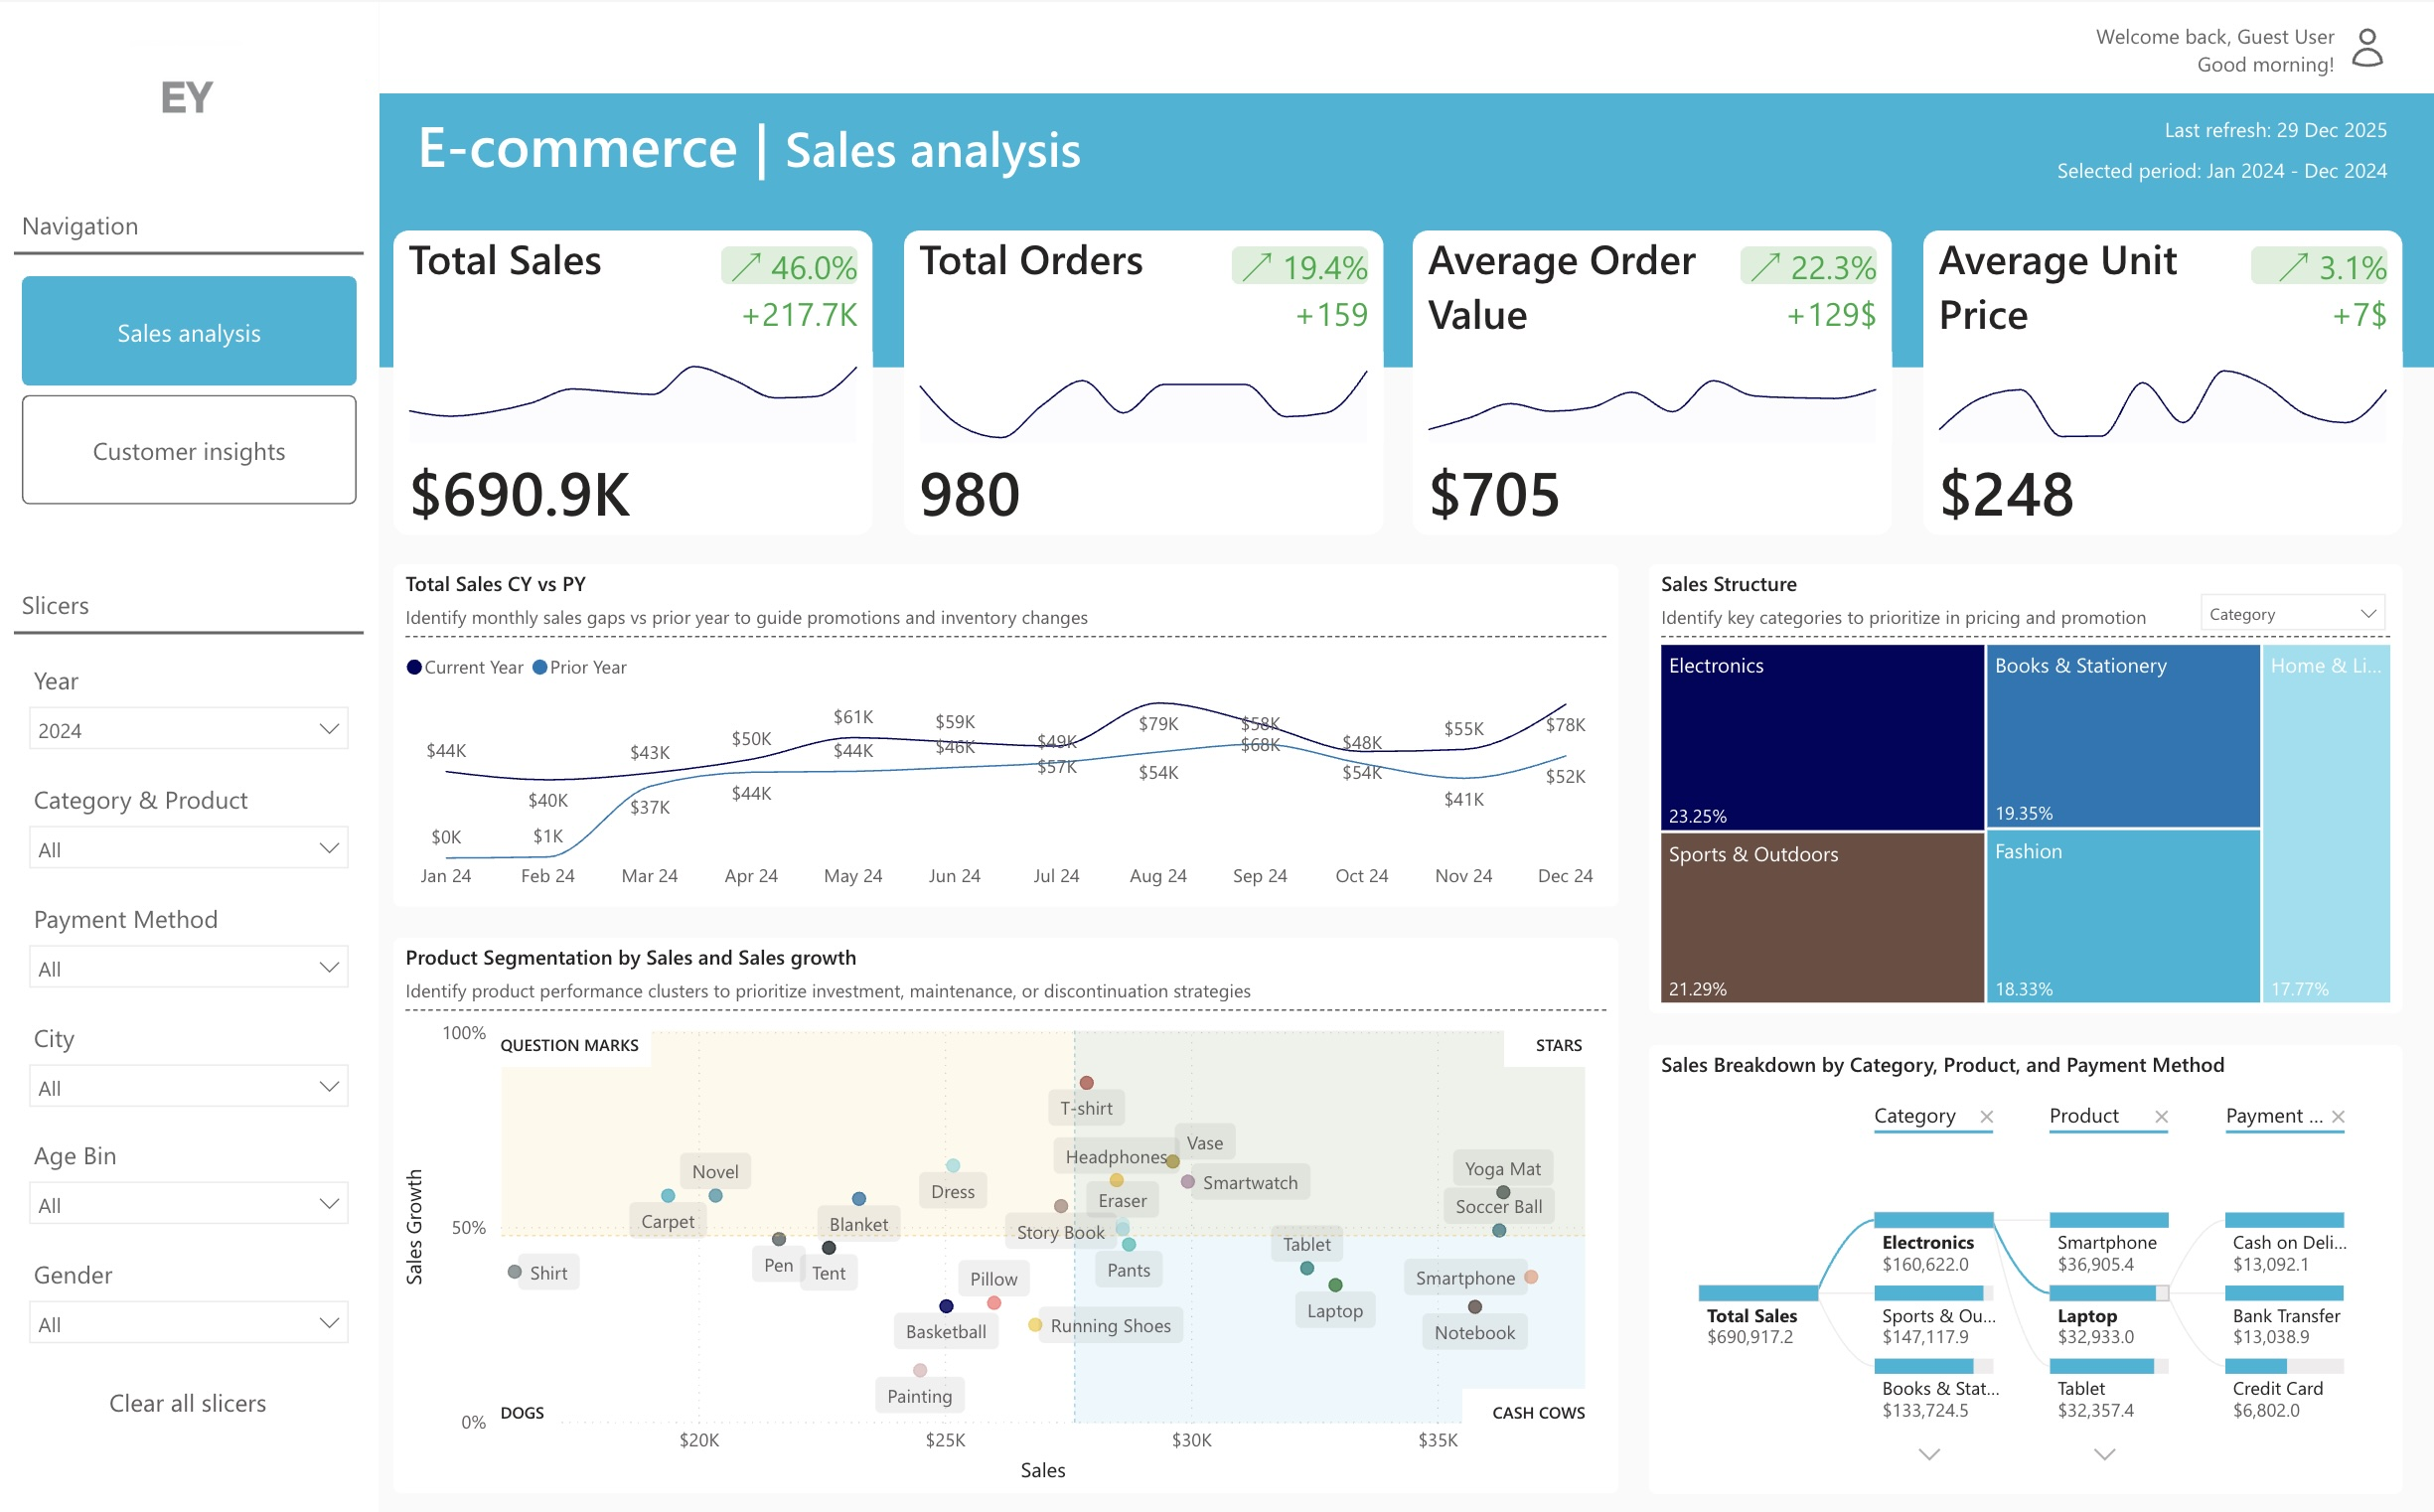

The page's visual inventory and layout, read from the dashboard file:
{"tool":"powerbi","page":{"name":"Sales analysis","canvas":[1600,1000],"ordinal":0},"visuals":[{"type":"shape","title":"White upper pane","box":[250,0,1350.7,60],"z":0,"group":"g1"},{"type":"shape","title":"KPI back","box":[260,150,314.8,200],"z":0,"group":"g8"},{"type":"shape","title":"KPI back","box":[595.7,150,315,200],"z":0,"group":"g7"},{"type":"shape","title":"KPI back","box":[930,150,314.8,200],"z":0,"group":"g6"},{"type":"shape","title":"KPI back","box":[1265,150,314.8,200],"z":0,"group":"g5"},{"type":"pageNavigator","box":[15,180,220,150],"z":0,"group":"g4"},{"type":"treemap","title":"Sales Structure","fields":{"Group":["synthetic_online_retail_data.category_name"],"Values":["Measure.Total Sales"]},"box":[1085,370,495,295],"z":0,"group":"g10"},{"type":"scatterChart","title":"Product Segmentation by Sales and Sales growth","fields":{"X":["Measure.Total Sales"],"Y":["Measure.Total Sales YoY %"],"Series":["synthetic_online_retail_data.product_name"]},"box":[260,615,805,365],"z":0,"group":"g9"},{"type":"textbox","title":"Stars","box":[988.8,670,56.6,30],"z":0,"group":"g2"},{"type":"group","id":"g1","title":"Background","box":[0,0,1600.7,1000],"z":500},{"type":"actionButton","box":[25,900,200,40],"z":500,"group":"g3"},{"type":"slicer","title":"Gender","fields":{"Values":["synthetic_online_retail_data.gender"]},"box":[10,820,230,80],"z":750,"group":"g3"},{"type":"shape","title":"White left pane","box":[0,0,250,1000],"z":1000,"group":"g1"},{"type":"textbox","box":[10,130,230,30],"z":1000,"group":"g4"},{"type":"cardVisual","title":"KPI value","fields":{"Data":["Measure.Total Sales"]},"box":[260.2,300,314.8,45.5],"z":1000,"group":"g8"},{"type":"cardVisual","title":"KPI value","fields":{"Data":["Measure.Total Orders"]},"box":[595.9,300,314.8,45.5],"z":1000,"group":"g7"},{"type":"cardVisual","title":"KPI value","fields":{"Data":["Measure.Average Order Value"]},"box":[930.2,300,314.8,45.5],"z":1000,"group":"g6"},{"type":"cardVisual","title":"KPI value","fields":{"Data":["Measure.Unique Customers"]},"box":[1265.2,300,314.8,45.5],"z":1000,"group":"g5"},{"type":"slicer","title":"Slicer Parameters","fields":{"Values":["Parameter.Parameter"]},"box":[1437.5,385,141.7,34.2],"z":1000,"group":"g10"},{"type":"group","id":"g2","title":"Segments","box":[324.9,670,722.7,270],"z":1000,"group":"g9"},{"type":"slicer","title":"Age Bin","fields":{"Values":["synthetic_online_retail_data.age_bin"]},"box":[10,742,230,80],"z":1000,"group":"g3"},{"type":"textbox","title":"Cash cows","box":[961.6,911,85.9,29],"z":1000,"group":"g2"},{"type":"shape","title":"Blue rectangle","box":[250,60,1350,180],"z":2000,"group":"g1"},{"type":"shape","title":"Line","box":[10.1,150,230,30],"z":2000,"group":"g4"},{"type":"lineChart","title":"Line graph","fields":{"Y":["Measure.Total Sales"],"Category":["Date.Month-Year"]},"box":[260,230,314.8,60],"z":2000,"group":"g8"},{"type":"lineChart","title":"Line graph","fields":{"Y":["Measure.Total Orders"],"Category":["Date.Month-Year"]},"box":[595.7,230,314.8,60],"z":2000,"group":"g7"},{"type":"lineChart","title":"Line graph","fields":{"Y":["Measure.Average Order Value"],"Category":["Date.Month-Year"]},"box":[930,230,314.8,60],"z":2000,"group":"g6"},{"type":"lineChart","title":"Line graph","fields":{"Y":["Measure.Average Unit Price"],"Category":["Date.Month-Year"]},"box":[1265,230,314.8,60],"z":2000,"group":"g5"},{"type":"group","id":"g3","title":"Slicers","box":[10,380,230.1,560],"z":2000},{"type":"slicer","title":"City","fields":{"Values":["synthetic_online_retail_data.city"]},"box":[10,664,230,80],"z":2000,"group":"g3"},{"type":"textbox","title":"Question marks","box":[324.9,670,103.8,30],"z":2000,"group":"g2"},{"type":"group","id":"g4","title":"Navigation","box":[10,130,230.1,200],"z":3000},{"type":"cardVisual","title":"Abs change","fields":{"Data":["Measure.Total Sales YoY Diff Formatted"]},"box":[469.9,190,100.2,30],"z":3000,"group":"g8"},{"type":"cardVisual","title":"Abs change","fields":{"Data":["Measure.Total Orders YoY Diff Formatted"]},"box":[805.6,190,100.2,30],"z":3000,"group":"g7"},{"type":"cardVisual","title":"Abs change","fields":{"Data":["Measure.AOV YoY Diff Formatted"]},"box":[1139.9,190,100.2,30],"z":3000,"group":"g6"},{"type":"cardVisual","title":"Abs change","fields":{"Data":["Measure.Average Unit Price YoY Diff Formatted"]},"box":[1474.9,190,100.2,30],"z":3000,"group":"g5"},{"type":"slicer","title":"Payment method","fields":{"Values":["synthetic_online_retail_data.payment_method"]},"box":[10,586,230,80],"z":3000,"group":"g3"},{"type":"textbox","title":"Dogs","box":[325.2,911.2,44.9,28.8],"z":3000,"group":"g2"},{"type":"group","id":"g5","title":"KPI Unit Price","box":[1265,150,315,200],"z":4000},{"type":"cardVisual","title":"Rel change","fields":{"Data":["Measure.Total Sales YoY Formatted"]},"box":[469.9,160,100.2,30],"z":4000,"group":"g8"},{"type":"cardVisual","title":"Rel change","fields":{"Data":["Measure.Total Orders YoY % Formatted"]},"box":[805.6,160,100,30],"z":4000,"group":"g7"},{"type":"cardVisual","title":"Rel change","fields":{"Data":["Measure.AOV YoY % Formatted"]},"box":[1139.9,160,100.2,30],"z":4000,"group":"g6"},{"type":"cardVisual","title":"Rel change","fields":{"Data":["Measure.Average Unit Price YoY % Formatted"]},"box":[1474.9,160,100.2,30],"z":4000,"group":"g5"},{"type":"slicer","title":"Category","fields":{"Values":["synthetic_online_retail_data.category_name","synthetic_online_retail_data.product_name"]},"box":[10,508,230,80],"z":4000,"group":"g3"},{"type":"cardVisual","title":"Dates","fields":{"Data":["Measure.Last Refresh Date","Measure.Selected Period"]},"box":[1338.6,62.9,242.9,67.1],"z":4625,"group":"g1"},{"type":"textbox","title":"KPI name","box":[260,150,210,80],"z":5000,"group":"g8"},{"type":"textbox","title":"KPI name","box":[595.7,150,209.9,80],"z":5000,"group":"g7"},{"type":"group","id":"g6","title":"KPI AOV","box":[930,150,315,200],"z":5000},{"type":"textbox","title":"KPI name","box":[930,150,210,80],"z":5000,"group":"g6"},{"type":"textbox","title":"KPI name","box":[1265,150,209.9,80],"z":5000,"group":"g5"},{"type":"slicer","title":"Year","fields":{"Values":["Date.Year"]},"box":[10,430,230,80],"z":5000,"group":"g3"},{"type":"group","id":"g7","title":"KPI Total Orders","box":[595.7,150,315,200],"z":6000},{"type":"textbox","box":[10,380,230,30],"z":6000,"group":"g3"},{"type":"group","id":"g8","title":"KPI Total Sales","box":[260,150,315,200],"z":7000},{"type":"shape","title":"Line","box":[10.1,400,230,30],"z":7000,"group":"g3"},{"type":"textbox","title":"Report name","box":[270,62.9,920,67.1],"z":7250,"group":"g1"},{"type":"lineChart","title":"Total Sales CY vs PY","fields":{"Y":["Measure.Total Sales","Measure.Total Sales PY"],"Category":["Date.Month-Year"]},"box":[260,370,805,225],"z":9000},{"type":"cardVisual","title":"Greeting","fields":{"Data":["Measure.Greeting 2"]},"box":[1344.3,0,237.1,60],"z":9875,"group":"g1"},{"type":"group","id":"g9","title":"Segmentation","box":[260,615,805,365],"z":10000},{"type":"group","id":"g10","title":"Sales Structure","box":[1085,370,495,295],"z":11000},{"type":"decompositionTreeVisual","title":"Sales Breakdown by Category, Product, and Payment Method","fields":{"Analyze":["Measure.Total Sales"],"ExplainBy":["synthetic_online_retail_data.category_name","synthetic_online_retail_data.product_name","synthetic_online_retail_data.payment_method"]},"box":[1085,685,495,295],"z":12000},{"type":"image","box":[67.1,24.3,115.7,75.7],"z":12501,"group":"g1"}]}

Visuals, with their boxes on the page's 1600x1000 design canvas (x1, y1, x2, y2). These are canvas units, not pixel positions in the 2434x1512 screenshot, which may show the page scaled, cropped or inside an application window:
"White upper pane" shape: select_region(250, 0, 1601, 60)
"KPI back" shape: select_region(260, 150, 575, 350)
"KPI back" shape: select_region(596, 150, 911, 350)
"KPI back" shape: select_region(930, 150, 1245, 350)
"KPI back" shape: select_region(1265, 150, 1580, 350)
pageNavigator: select_region(15, 180, 235, 330)
"Sales Structure" treemap: select_region(1085, 370, 1580, 665)
"Product Segmentation by Sales and Sales growth" scatterChart: select_region(260, 615, 1065, 980)
"Stars" textbox: select_region(989, 670, 1045, 700)
"Background" group: select_region(0, 0, 1601, 1000)
actionButton: select_region(25, 900, 225, 940)
"Gender" slicer: select_region(10, 820, 240, 900)
"White left pane" shape: select_region(0, 0, 250, 1000)
textbox: select_region(10, 130, 240, 160)
"KPI value" cardVisual: select_region(260, 300, 575, 346)
"KPI value" cardVisual: select_region(596, 300, 911, 346)
"KPI value" cardVisual: select_region(930, 300, 1245, 346)
"KPI value" cardVisual: select_region(1265, 300, 1580, 346)
"Slicer Parameters" slicer: select_region(1438, 385, 1579, 419)
"Segments" group: select_region(325, 670, 1048, 940)
"Age Bin" slicer: select_region(10, 742, 240, 822)
"Cash cows" textbox: select_region(962, 911, 1048, 940)
"Blue rectangle" shape: select_region(250, 60, 1600, 240)
"Line" shape: select_region(10, 150, 240, 180)
"Line graph" lineChart: select_region(260, 230, 575, 290)
"Line graph" lineChart: select_region(596, 230, 910, 290)
"Line graph" lineChart: select_region(930, 230, 1245, 290)
"Line graph" lineChart: select_region(1265, 230, 1580, 290)
"Slicers" group: select_region(10, 380, 240, 940)
"City" slicer: select_region(10, 664, 240, 744)
"Question marks" textbox: select_region(325, 670, 429, 700)
"Navigation" group: select_region(10, 130, 240, 330)
"Abs change" cardVisual: select_region(470, 190, 570, 220)
"Abs change" cardVisual: select_region(806, 190, 906, 220)
"Abs change" cardVisual: select_region(1140, 190, 1240, 220)
"Abs change" cardVisual: select_region(1475, 190, 1575, 220)
"Payment method" slicer: select_region(10, 586, 240, 666)
"Dogs" textbox: select_region(325, 911, 370, 940)
"KPI Unit Price" group: select_region(1265, 150, 1580, 350)
"Rel change" cardVisual: select_region(470, 160, 570, 190)
"Rel change" cardVisual: select_region(806, 160, 906, 190)
"Rel change" cardVisual: select_region(1140, 160, 1240, 190)
"Rel change" cardVisual: select_region(1475, 160, 1575, 190)
"Category" slicer: select_region(10, 508, 240, 588)
"Dates" cardVisual: select_region(1339, 63, 1582, 130)
"KPI name" textbox: select_region(260, 150, 470, 230)
"KPI name" textbox: select_region(596, 150, 806, 230)
"KPI AOV" group: select_region(930, 150, 1245, 350)
"KPI name" textbox: select_region(930, 150, 1140, 230)
"KPI name" textbox: select_region(1265, 150, 1475, 230)
"Year" slicer: select_region(10, 430, 240, 510)
"KPI Total Orders" group: select_region(596, 150, 911, 350)
textbox: select_region(10, 380, 240, 410)
"KPI Total Sales" group: select_region(260, 150, 575, 350)
"Line" shape: select_region(10, 400, 240, 430)
"Report name" textbox: select_region(270, 63, 1190, 130)
"Total Sales CY vs PY" lineChart: select_region(260, 370, 1065, 595)
"Greeting" cardVisual: select_region(1344, 0, 1581, 60)
"Segmentation" group: select_region(260, 615, 1065, 980)
"Sales Structure" group: select_region(1085, 370, 1580, 665)
"Sales Breakdown by Category, Product, and Payment Method" decompositionTreeVisual: select_region(1085, 685, 1580, 980)
image: select_region(67, 24, 183, 100)
